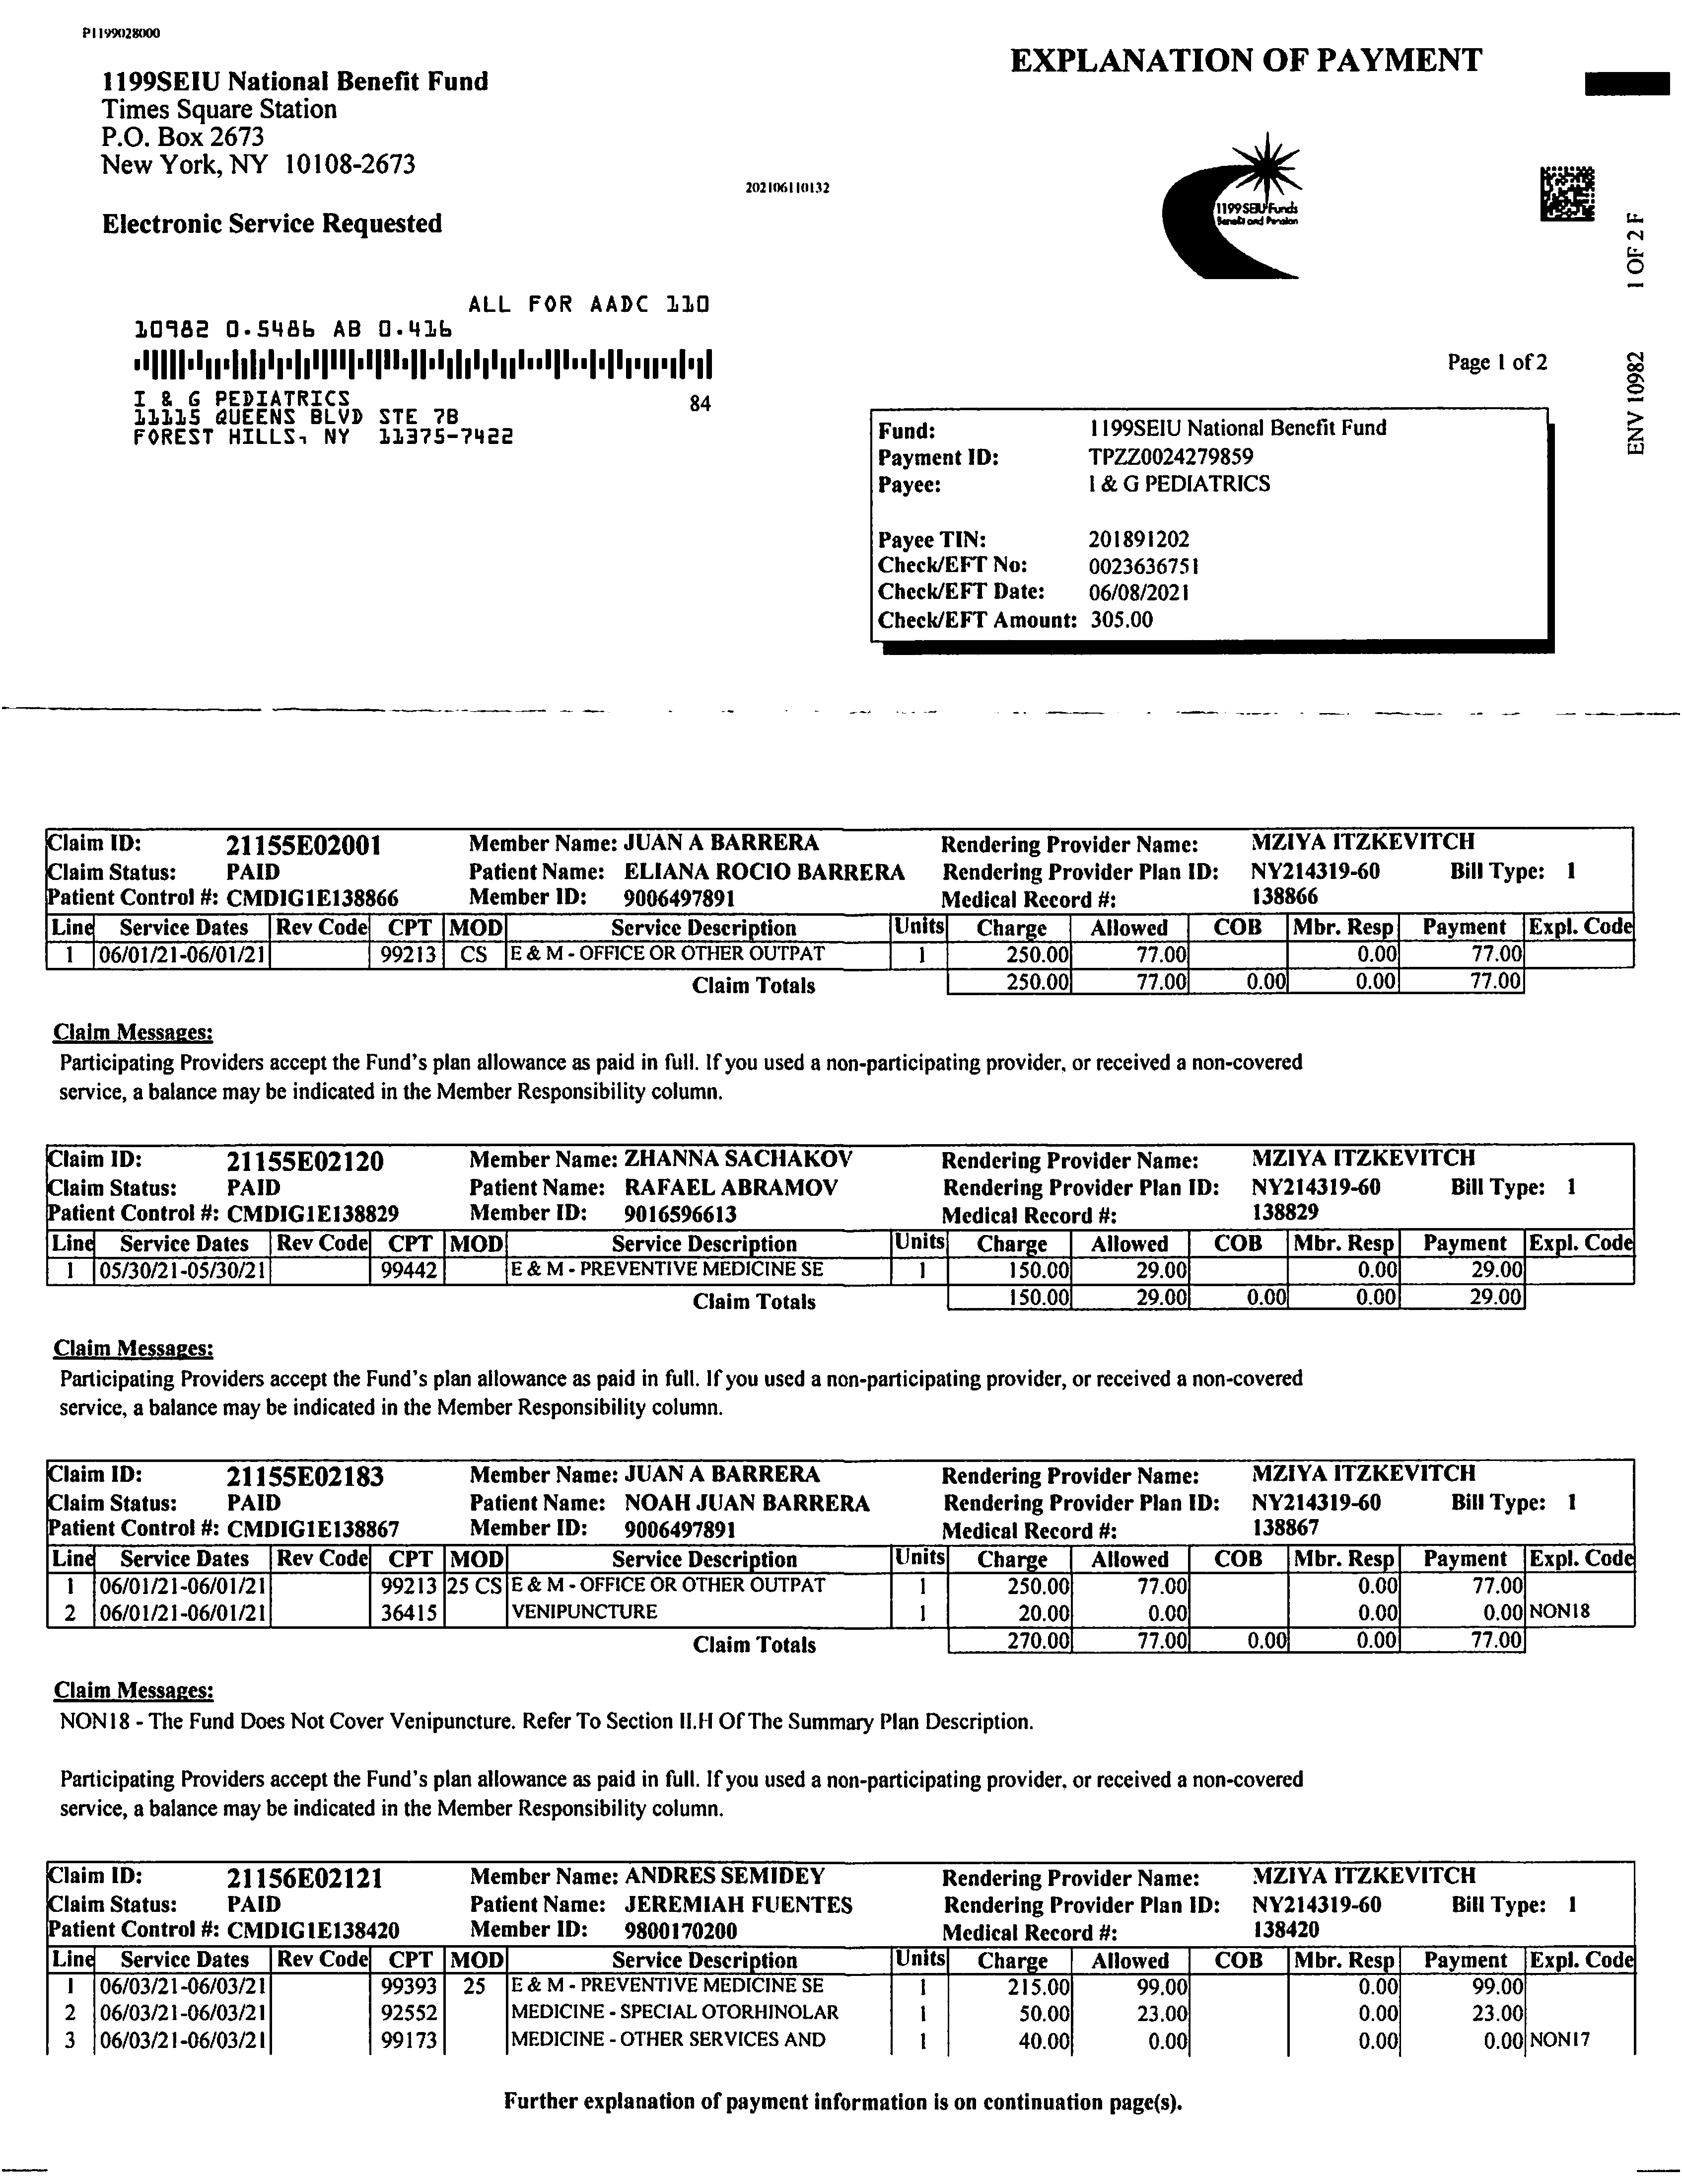data: (860, 392, 1578, 666), (39, 1131, 1650, 1239), (35, 1451, 1650, 1551), (30, 811, 1610, 908), (28, 1854, 1659, 1947)
table: (35, 1546, 1657, 1663), (34, 1947, 1657, 2062), (35, 906, 1663, 1000), (34, 1228, 1648, 1315)
